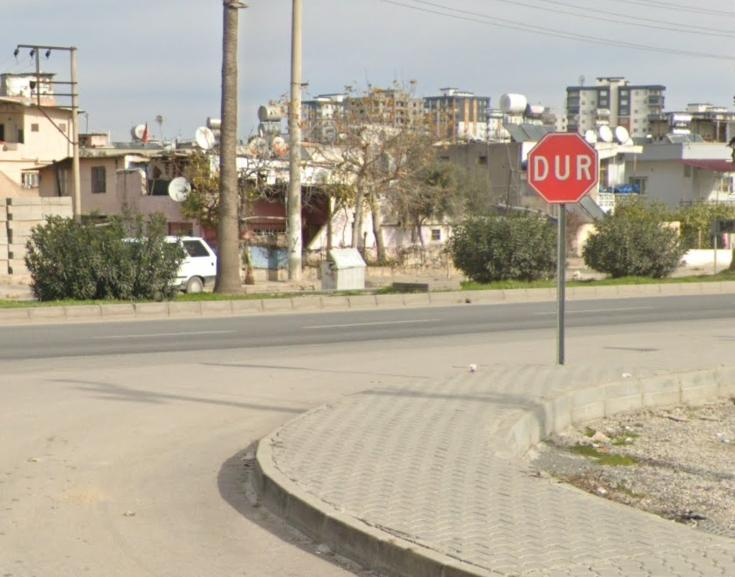stop: (529, 131, 598, 203)
